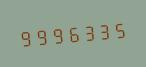five: (113, 16, 128, 42)
nine: (17, 24, 32, 50), (33, 23, 48, 49), (49, 22, 64, 47)
six: (65, 20, 80, 46)
three: (97, 17, 112, 43), (81, 19, 96, 44)
